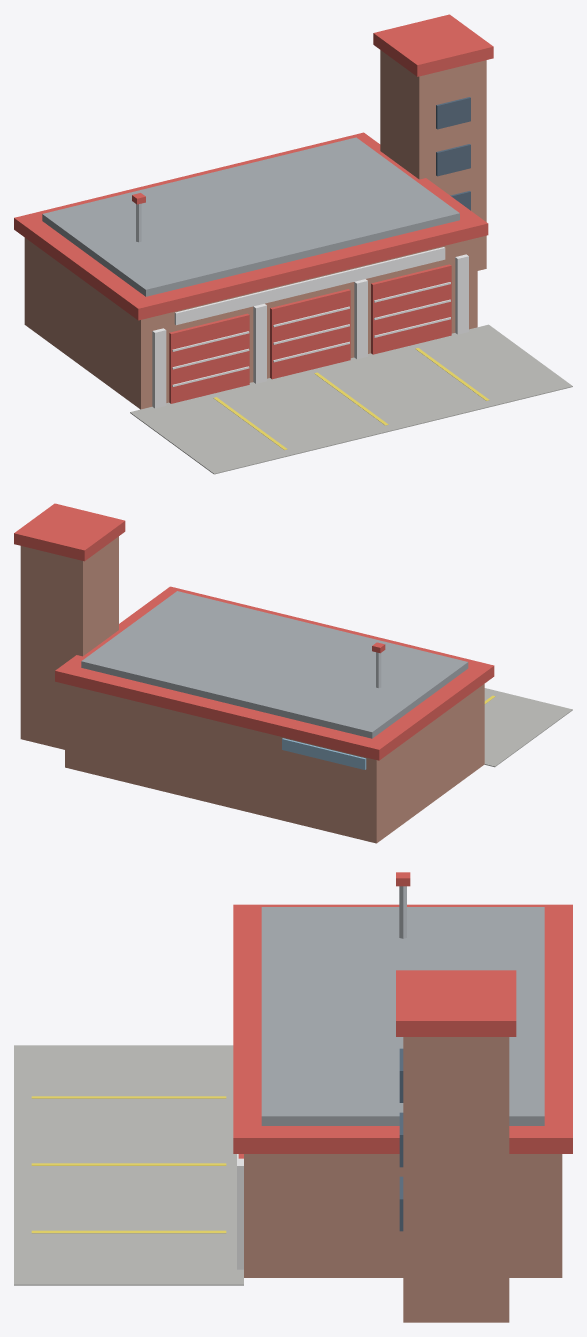
Rendered from caserne_pompiers.glb.
3 renders of one model, top to bottom at view 1: azimuth 30°, elevation 25°; view 2: azimuth 150°, elevation 25°; view 3: azimuth 270°, elevation 25°, orthographic. The views are drawn at different scales.
Visible parts, largest first — view 1: body; view 2: body; view 3: body.
Boxes of the visible parts, bbox=[...] form: body: bbox=[14, 14, 572, 474]; body: bbox=[14, 503, 572, 843]; body: bbox=[14, 872, 572, 1322].
Size of the model in its own units: 37.4 by 19.02 by 31.6.
